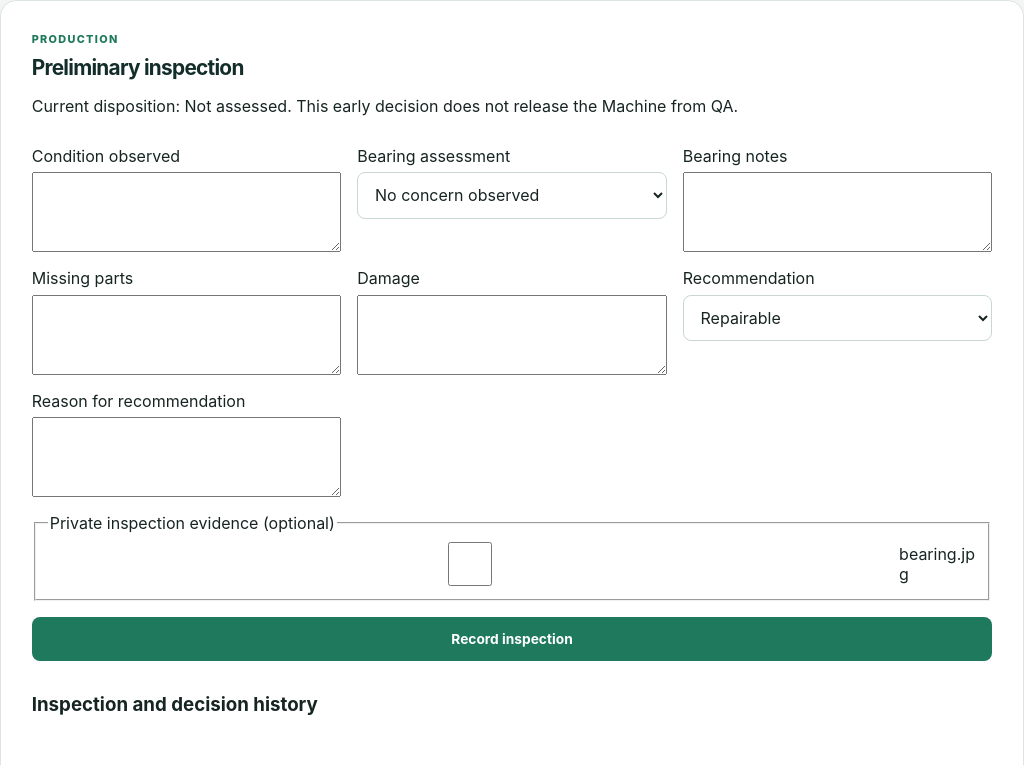
Preliminary Inspection panel › selects ready Machine evidence, records observations, and recovers after failure
Later steps or results of the test are not shown.
Type "Drum turns" into the text box labelled "Condition observed" at (186, 212), box [32,172,341,252]
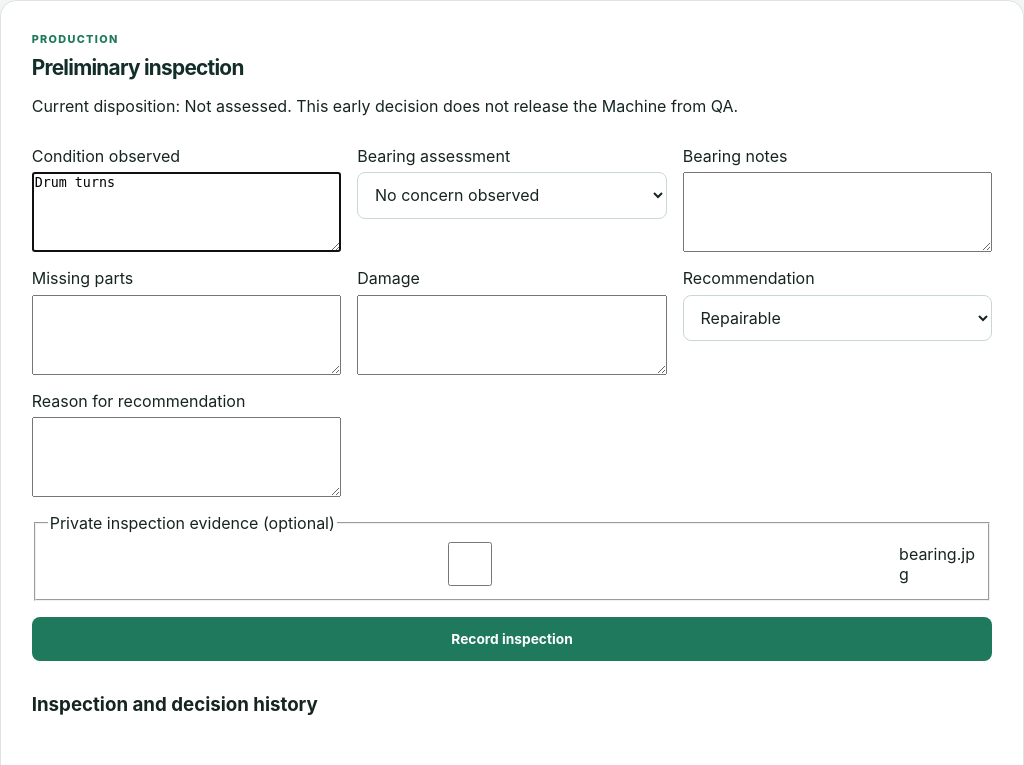
Type "Economic review" into the text box labelled "Reason for recommendation" at (186, 457), box [32,417,341,497]
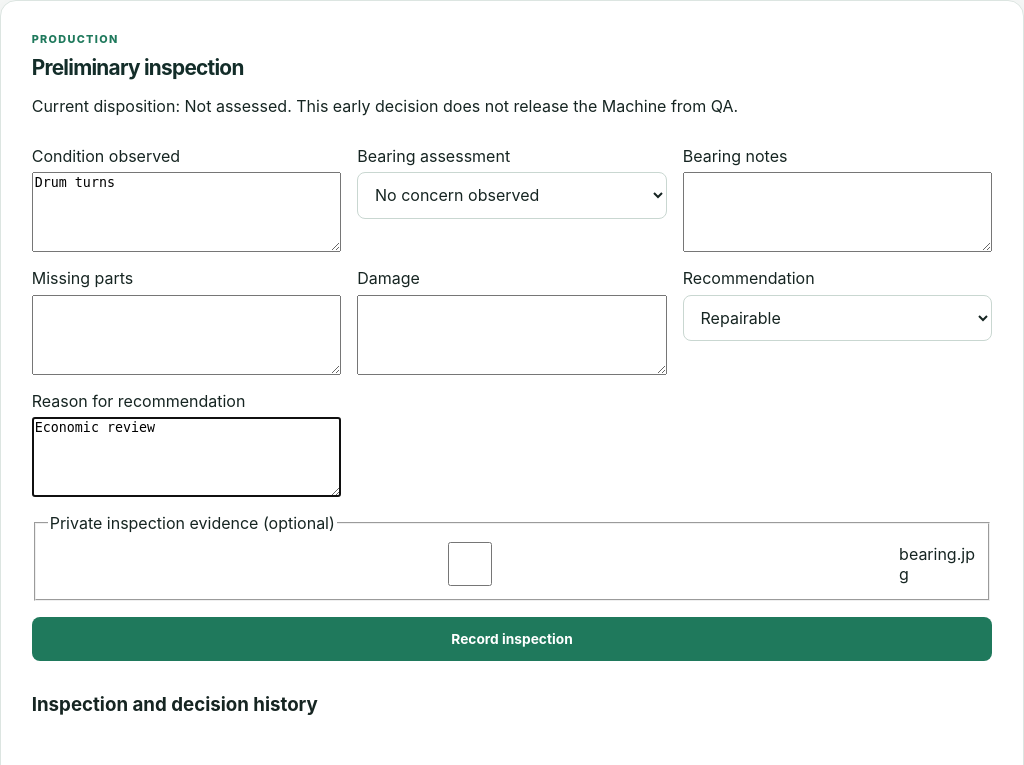
Click the checkbox labelled "bearing.jpg" at (470, 564), box [52,542,888,586]
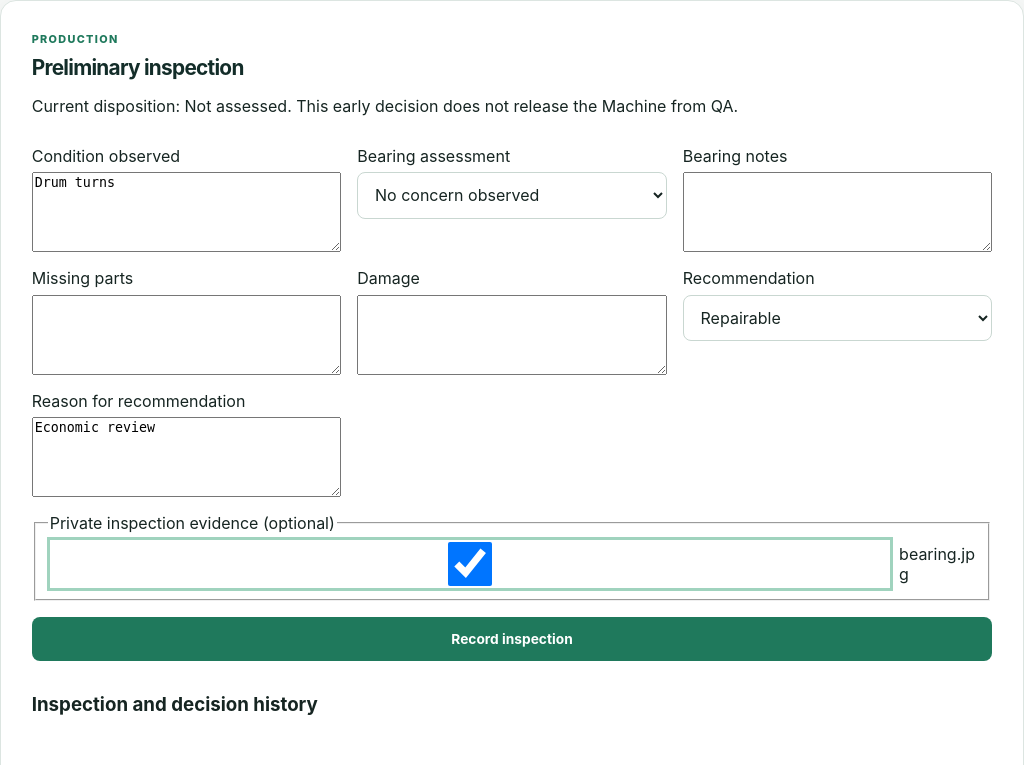
Click the button "Record inspection" at (512, 639), box [32,617,992,661]
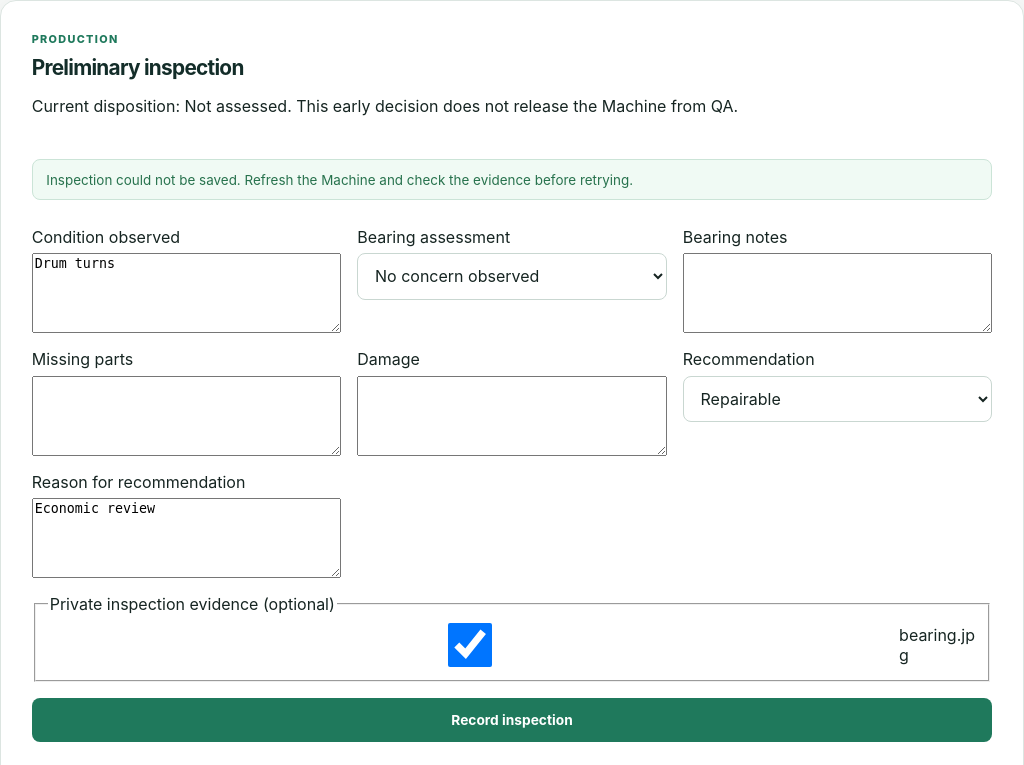
Now the text "could not be saved" is shown, box [46,172,633,188]
